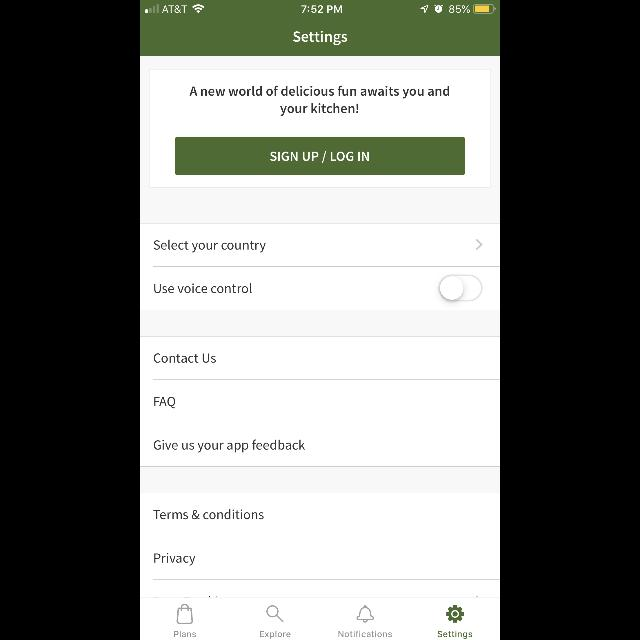icon: (176, 604, 194, 624), (446, 606, 464, 622), (356, 606, 374, 622), (266, 606, 284, 622), (476, 238, 482, 250)
switch: (439, 274, 483, 302)
text: (190, 86, 450, 116), (153, 440, 304, 452), (154, 240, 266, 252), (154, 509, 264, 519), (154, 284, 252, 294), (293, 30, 347, 46), (154, 353, 216, 363), (154, 552, 196, 566), (338, 630, 392, 638), (438, 631, 472, 639), (154, 397, 176, 409), (260, 631, 290, 639), (174, 631, 196, 637)
textbutton: (175, 137, 465, 175)
uppertaskbar: (140, 0, 500, 14)
